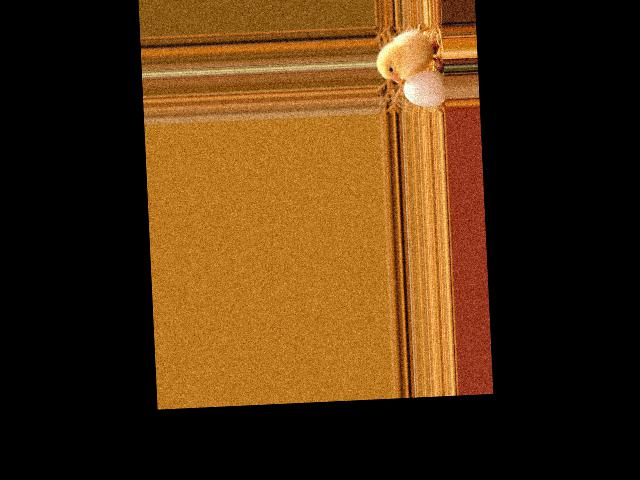egg: (402, 69, 446, 107)
